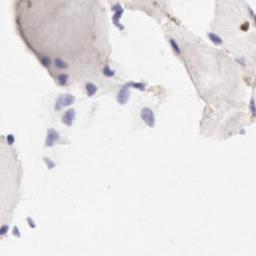nucleus: (115, 81, 146, 105), (44, 126, 61, 147), (110, 4, 124, 29), (55, 94, 76, 110), (140, 107, 155, 128), (62, 108, 76, 127), (86, 82, 97, 98), (210, 33, 223, 46), (25, 215, 36, 229), (249, 99, 256, 119), (45, 157, 56, 169), (54, 58, 67, 68), (171, 39, 180, 53), (103, 66, 114, 77), (41, 55, 51, 67), (6, 133, 16, 145), (248, 8, 256, 22), (58, 73, 68, 84), (12, 226, 21, 237), (1, 225, 9, 236)
